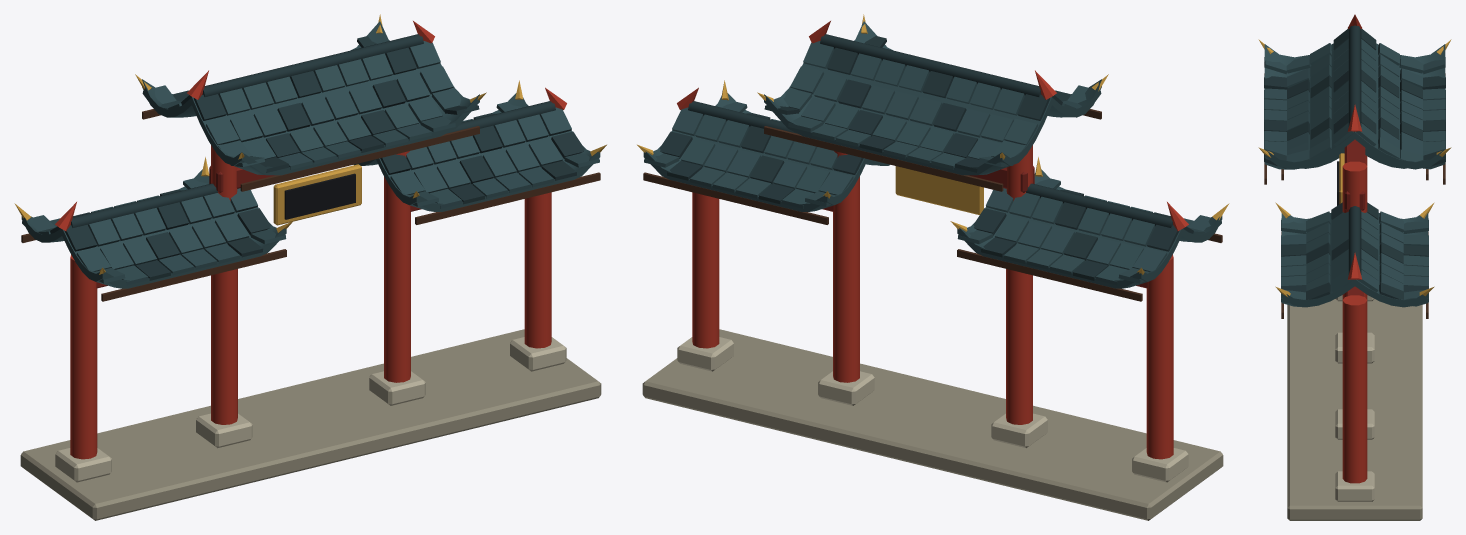
The model's file is gate_tam_quan.glb.
3 views of the same model, side by side, from view 1: azimuth 30°, elevation 25°; view 2: azimuth 150°, elevation 25°; view 3: azimuth 270°, elevation 25° (orthographic). The views are drawn at different scales.
Visible parts, largest first — view 1: TamQuan; view 2: TamQuan; view 3: TamQuan.
Boxes of the visible parts, x1=… form: TamQuan: x1=14, y1=14, x2=606, y2=520; TamQuan: x1=637, y1=14, x2=1229, y2=520; TamQuan: x1=1258, y1=14, x2=1451, y2=520.
Size of what is drawn, in the model's own units: 9.4 by 6.85 by 3.42.
